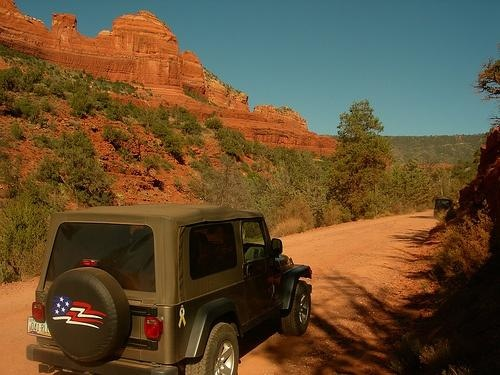car: (27, 203, 314, 375)
